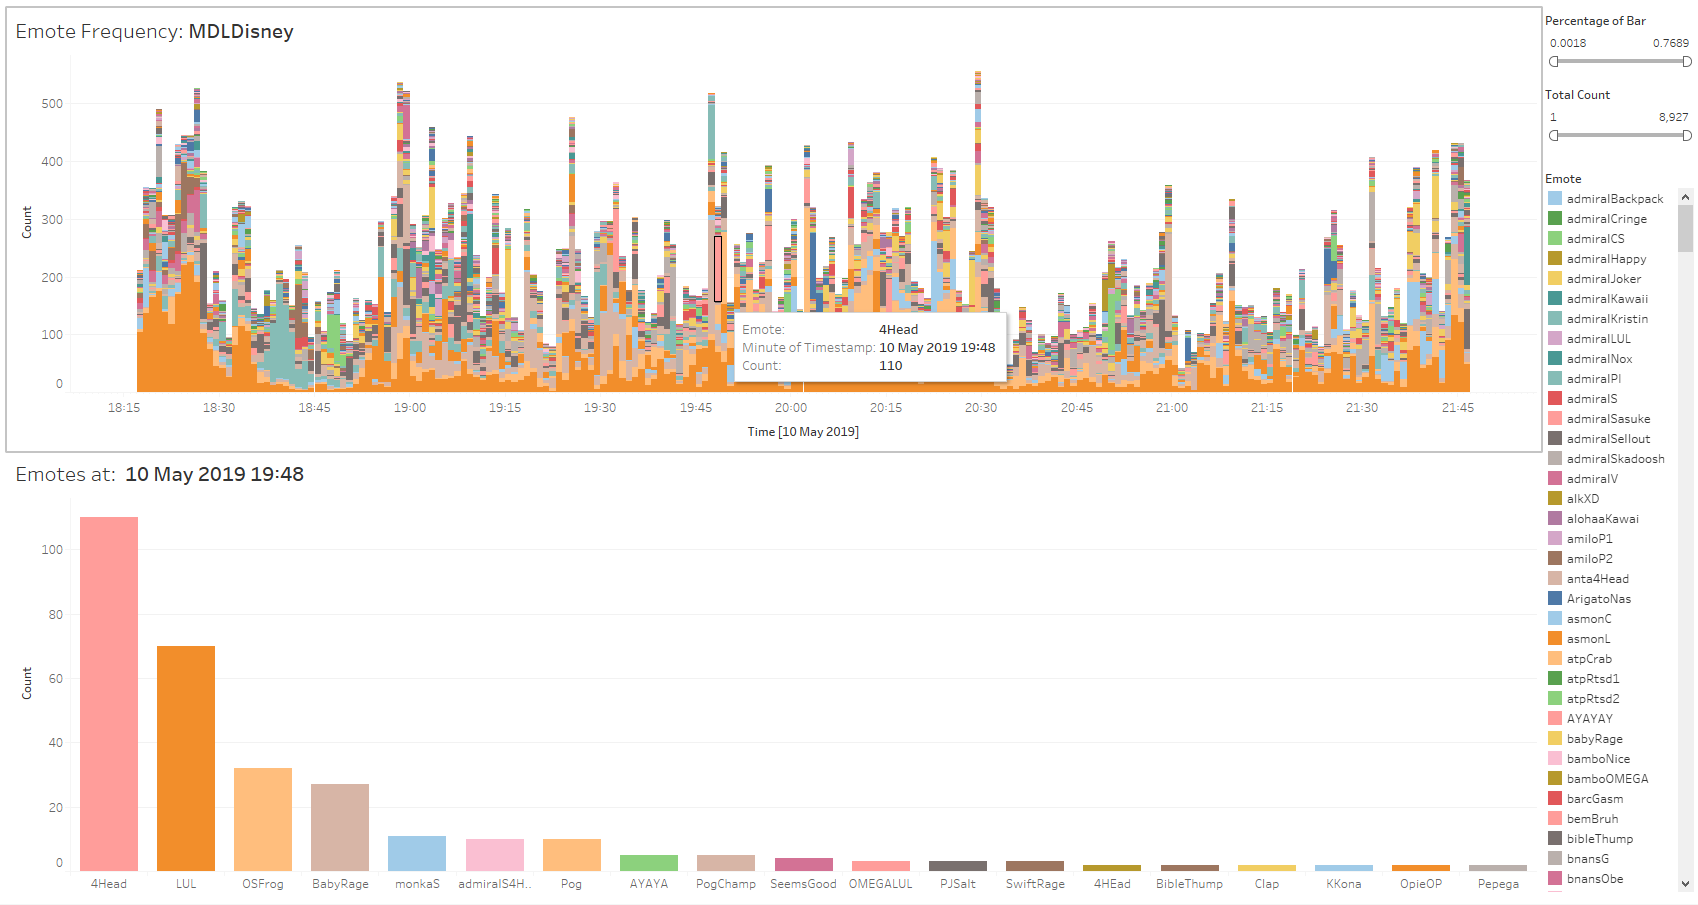

What the dashboard file says about the page in this screenshot:
{"tool":"tableau","page":{"name":"Dashboard 1","canvas":[1000,1000],"units":"permille","ordinal":0},"visuals":[{"type":"worksheet","title":"Stacked Bar","mark":"Bar","rows":["count"],"cols":["timestamp"],"box":[4.7,8.8,897.4,490.1]},{"type":"filter","title":"Stacked Bar","param":"[federated.0wjc1m911hyxwt1czhut31dv7hgh].[none:Calculation_477663090371919884:qk","box":[902.1,8.8,93.2,81.9]},{"type":"filter","title":"Stacked Bar","param":"[federated.0wjc1m911hyxwt1czhut31dv7hgh].[sum:Calculation_477663090368802827:qk]","box":[902.1,90.7,93.2,92.9]},{"type":"legend","title":"Stacked Bar","param":"[federated.0wjc1m911hyxwt1czhut31dv7hgh].[none:emote:nk]","box":[902.1,183.6,93.2,807.5]},{"type":"worksheet","title":"Bar Single Timestamp","mark":"Automatic","rows":["count"],"cols":["emote"],"box":[4.7,499,897.4,492.2]}]}

Visuals, with their boxes on the dashboard's canvas, which has no fixed pixel size, in thousandths of its width and height (x1, y1, x2, y2). These are canvas units, not pixel positions in the 1698x905 screenshot, which may show the page scaled, cropped or inside an application window:
"Stacked Bar" worksheet (Bar marks): x1=5, y1=9, x2=902, y2=499
"Stacked Bar" filter: x1=902, y1=9, x2=995, y2=91
"Stacked Bar" filter: x1=902, y1=91, x2=995, y2=184
"Stacked Bar" legend: x1=902, y1=184, x2=995, y2=991
"Bar Single Timestamp" worksheet: x1=5, y1=499, x2=902, y2=991
